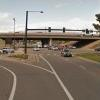Bridge: (3, 25, 96, 45)
